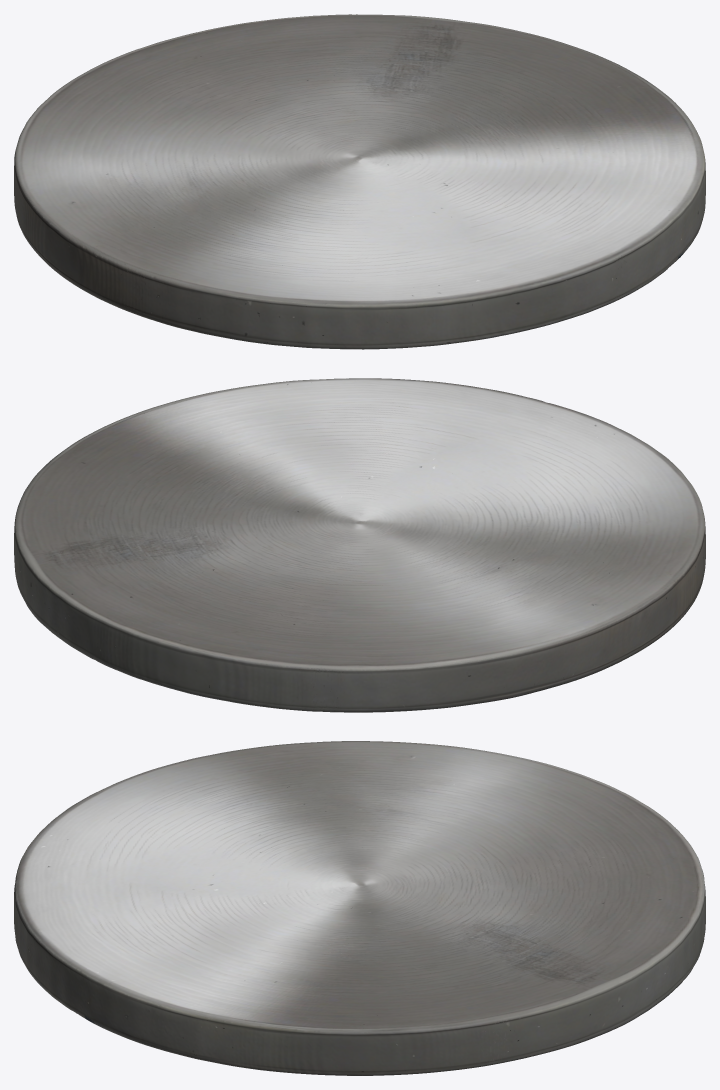
The model's file is Meshy_AI_Brushed_Steel_Turntab_0319114408_texture.glb.
The picture shows the model from 3 angles, top to bottom: view 1: azimuth 30°, elevation 25°; view 2: azimuth 150°, elevation 25°; view 3: azimuth 270°, elevation 25°; orthographic projection.
Size of the model in its own units: 2 by 0.1517 by 2.
1 material, 1 textured.
